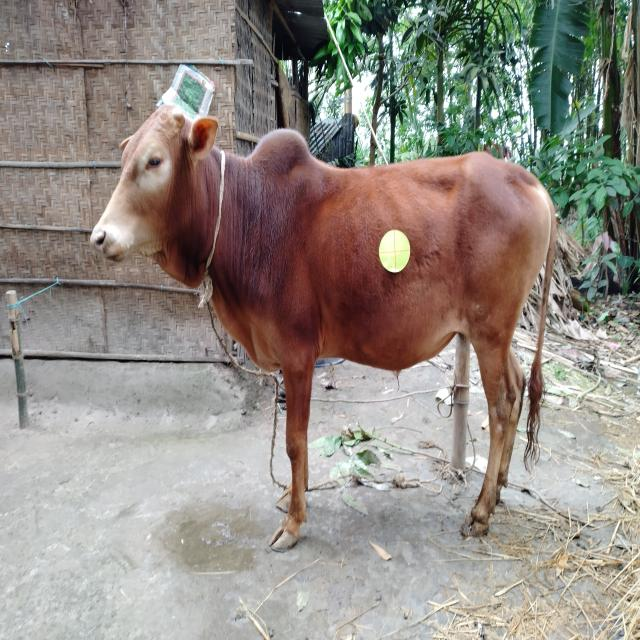badan_sapi: (260, 168, 551, 374)
sapi: (88, 95, 554, 550)
